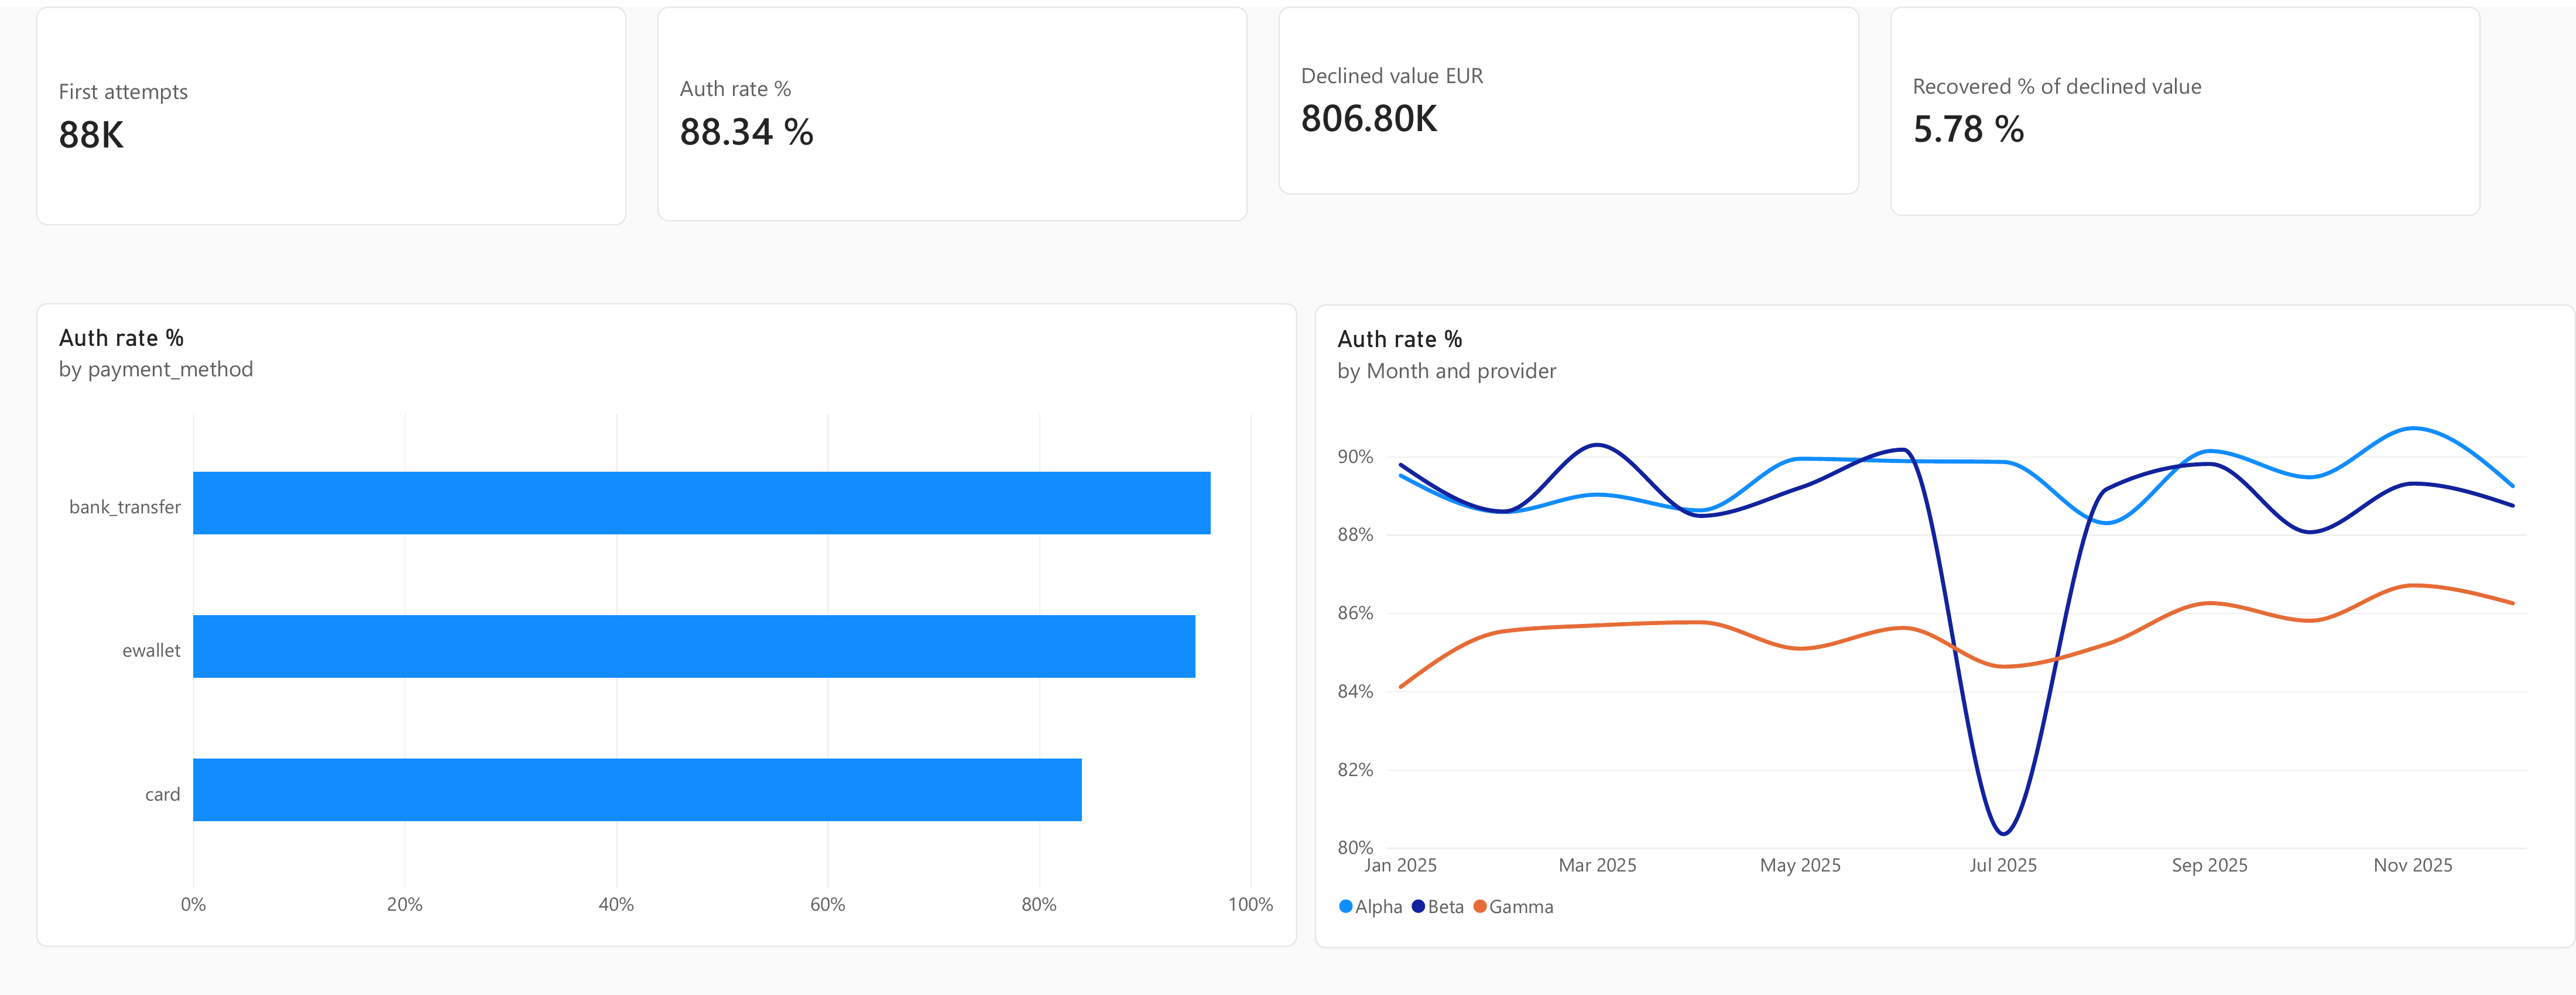

The dashboard page shown, as its layout file describes it:
{"tool":"tableau","page":{"name":"1. Is there a problem? Synthetic data, illustrative","canvas":[1200,800],"ordinal":0},"visuals":[{"type":"title","box":[8,8,1184,42]},{"type":"worksheet","title":"Auth rate","mark":"Automatic","box":[8,50,280,181.7]},{"type":"worksheet","title":"First attempts","mark":"Automatic","box":[288,50,269,181.7]},{"type":"worksheet","title":"Declined value EUR","mark":"Automatic","box":[557,50,290,181.7]},{"type":"worksheet","title":"Recovered % of declined value","mark":"Automatic","box":[847,50,345,181.7]},{"type":"worksheet","title":"Auth rate by month","mark":"Automatic","rows":["Calculation_4166794988568579"],"cols":["created_at"],"box":[8,231.7,512,560.3]},{"type":"worksheet","title":"Auth rate by method","mark":"Automatic","rows":["payment_method"],"cols":["Calculation_4166794988568579"],"box":[520,231.7,512,560.3]},{"type":"legend","title":"Auth rate by month","param":"[federated.0o5fr041ixtg4312150rq0giquz7].[none:provider:nk]","box":[1032,231.7,160,86]}]}

Visuals, with their boxes on the page's 1200x800 design canvas (x1, y1, x2, y2). These are canvas units, not pixel positions in the 2576x995 screenshot, which may show the page scaled, cropped or inside an application window:
title: bbox=(8, 8, 1192, 50)
"Auth rate" worksheet: bbox=(8, 50, 288, 232)
"First attempts" worksheet: bbox=(288, 50, 557, 232)
"Declined value EUR" worksheet: bbox=(557, 50, 847, 232)
"Recovered % of declined value" worksheet: bbox=(847, 50, 1192, 232)
"Auth rate by month" worksheet: bbox=(8, 232, 520, 792)
"Auth rate by method" worksheet: bbox=(520, 232, 1032, 792)
"Auth rate by month" legend: bbox=(1032, 232, 1192, 318)
